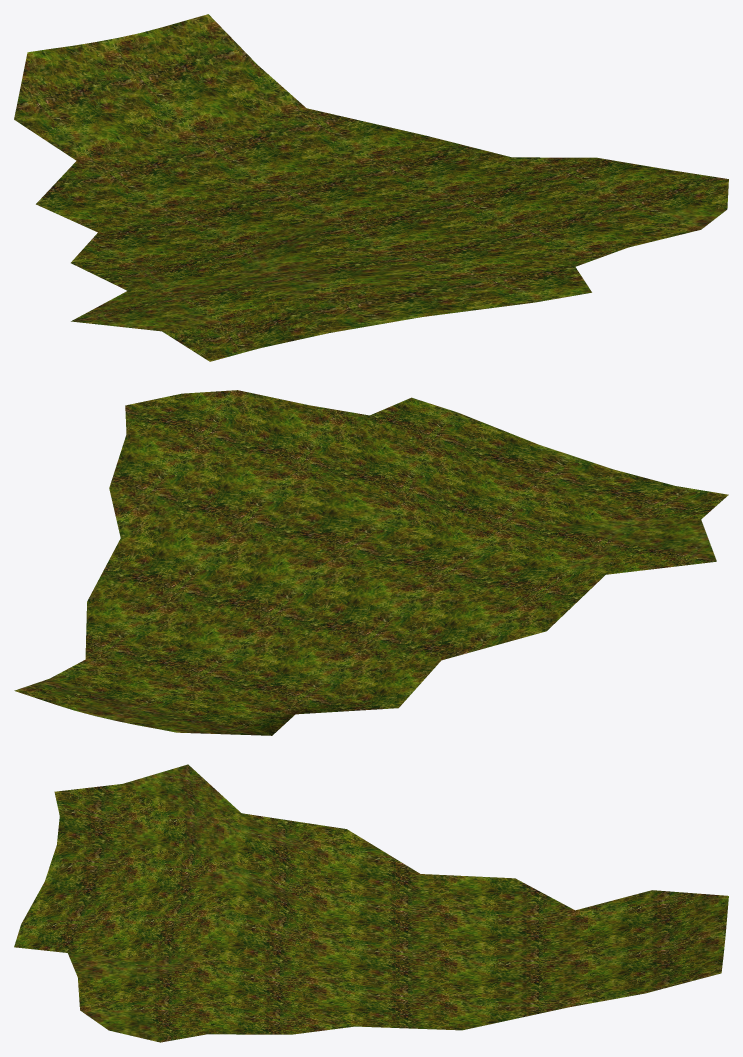
Rendered from TROLLHOLE02_LUKEGROUND01.fbx.
3 renders of one model, top to bottom at view 1: azimuth 30°, elevation 25°; view 2: azimuth 150°, elevation 25°; view 3: azimuth 270°, elevation 25°, orthographic. The views are drawn at different scales.
Visible parts, largest first — view 1: TROLLHOLE02_LUKEGROUND01; view 2: TROLLHOLE02_LUKEGROUND01; view 3: TROLLHOLE02_LUKEGROUND01.
Boxes of the visible parts, bbox=[...] form: TROLLHOLE02_LUKEGROUND01: bbox=[14, 14, 728, 361]; TROLLHOLE02_LUKEGROUND01: bbox=[14, 390, 728, 735]; TROLLHOLE02_LUKEGROUND01: bbox=[14, 764, 728, 1042].
Bounding box in the file's own units: 296355 × 27640 × 324814.
1 material, 1 textured.
